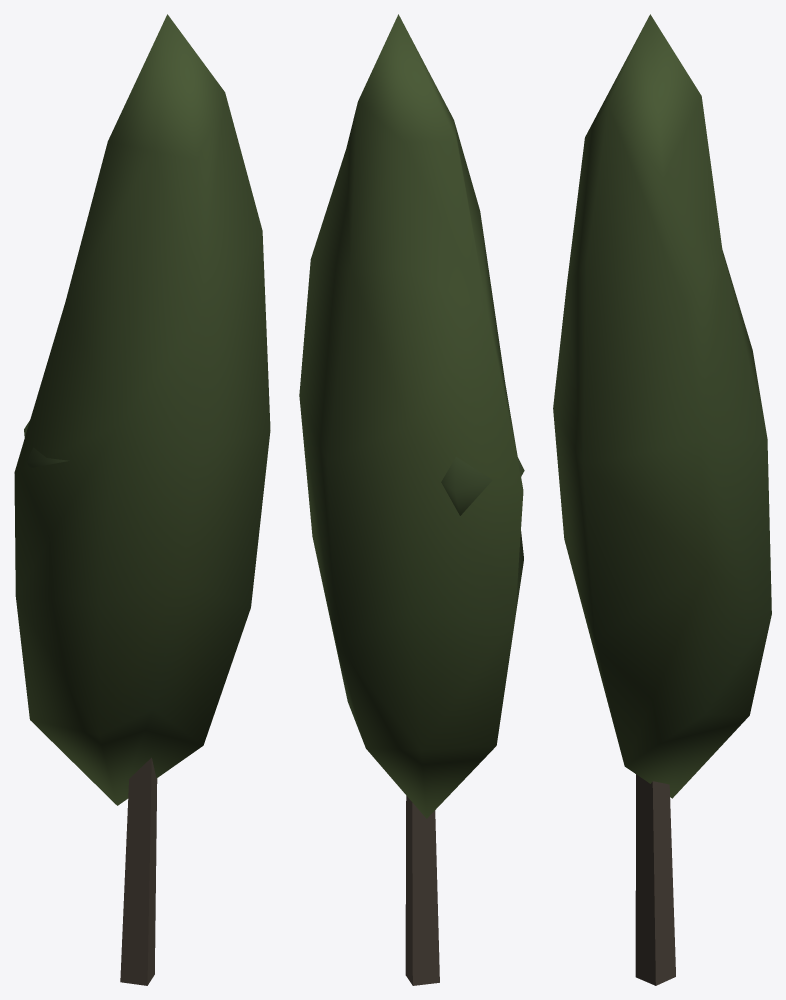
File: tall_columnar_lod0.glb
The picture shows the model from 3 angles, left to right: view 1: azimuth 30°, elevation 25°; view 2: azimuth 150°, elevation 25°; view 3: azimuth 270°, elevation 25°; orthographic projection. The views are drawn at different scales.
Visible parts, largest first — view 1: tall_columnar_LOD0; view 2: tall_columnar_LOD0; view 3: tall_columnar_LOD0.
Boxes of the visible parts, x1,y1,x2,y2 form: tall_columnar_LOD0: [14, 14, 270, 985]; tall_columnar_LOD0: [299, 14, 524, 985]; tall_columnar_LOD0: [553, 14, 771, 985].
Size of the model in its own units: 2.98 by 12.76 by 2.59.
